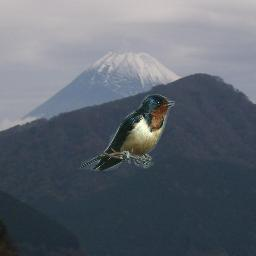Swallow: (77, 94, 175, 171)
